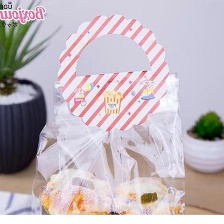snack: (26, 8, 191, 213)
